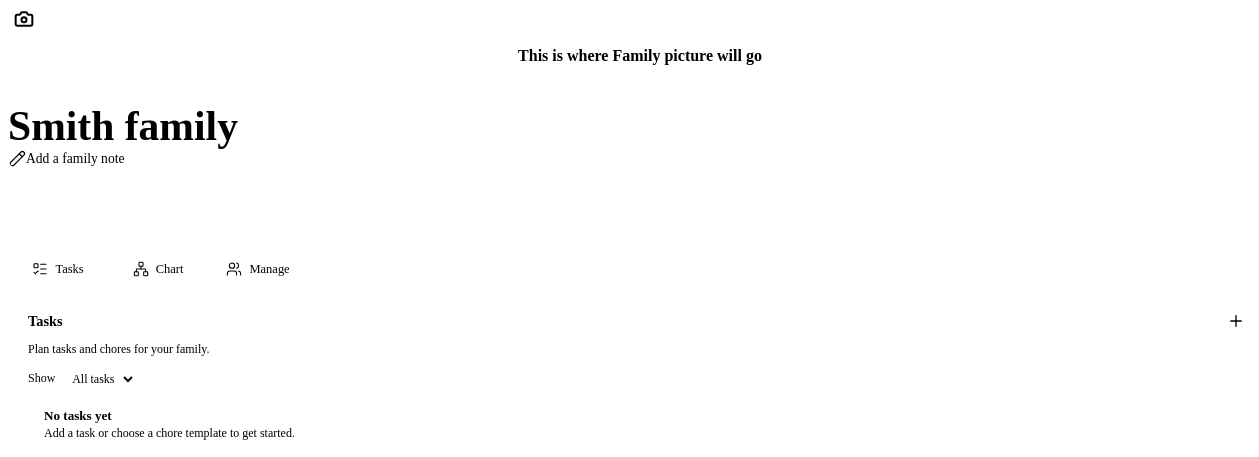
Test: FamilyScreen tabs › switches to the Chart tab and shows its content
Click the tab "Chart": (158, 269) [108,248,208,290]
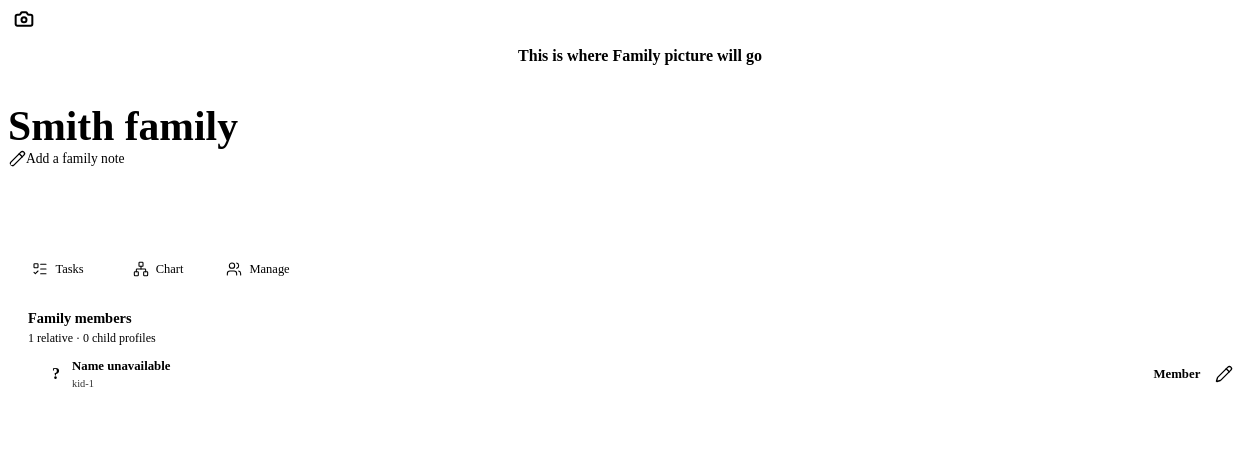
Now the text "kid-1" is shown, box [72,378,94,389]
